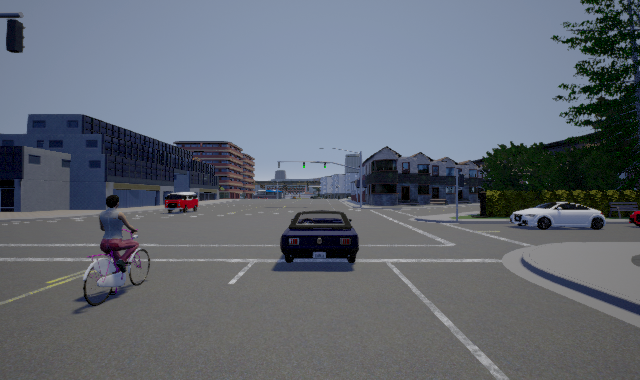bike: (80, 193, 153, 305)
traffic_light: (324, 162, 326, 168), (303, 162, 305, 168), (278, 162, 280, 168)
vehicle: (280, 210, 359, 263), (509, 202, 606, 230), (165, 192, 199, 213)
